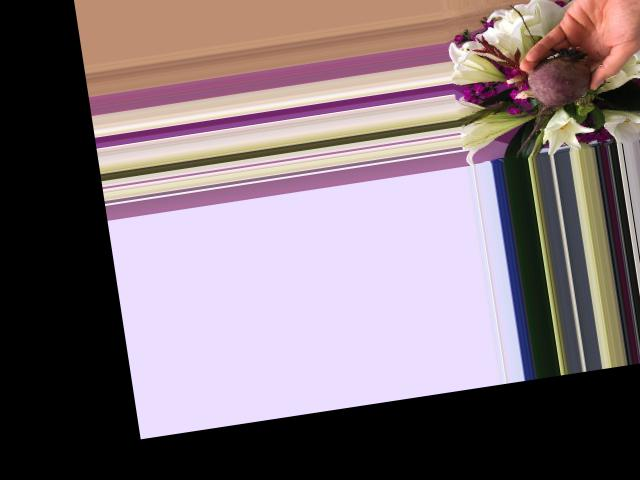beet: (500, 45, 601, 156)
